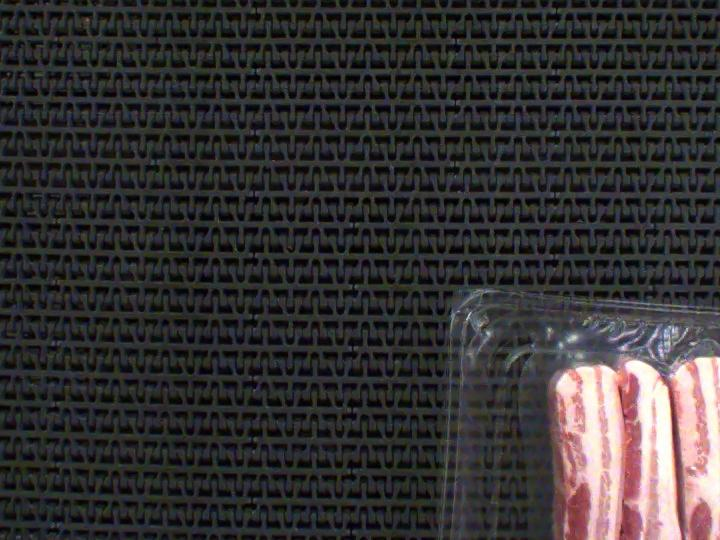unsealed: (498, 300, 720, 514)
